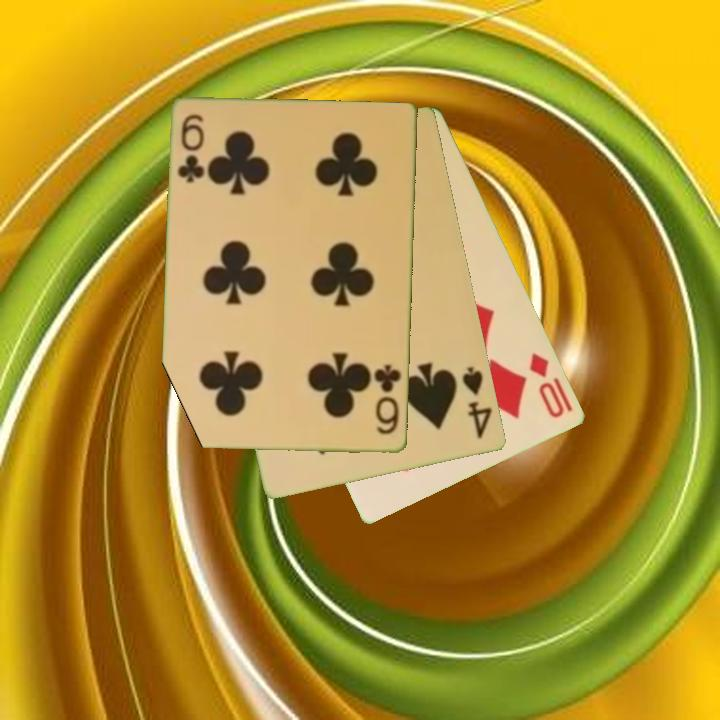10d: (526, 349, 568, 421)
4s: (459, 363, 496, 442)
6c: (174, 111, 208, 186), (371, 362, 404, 438)
